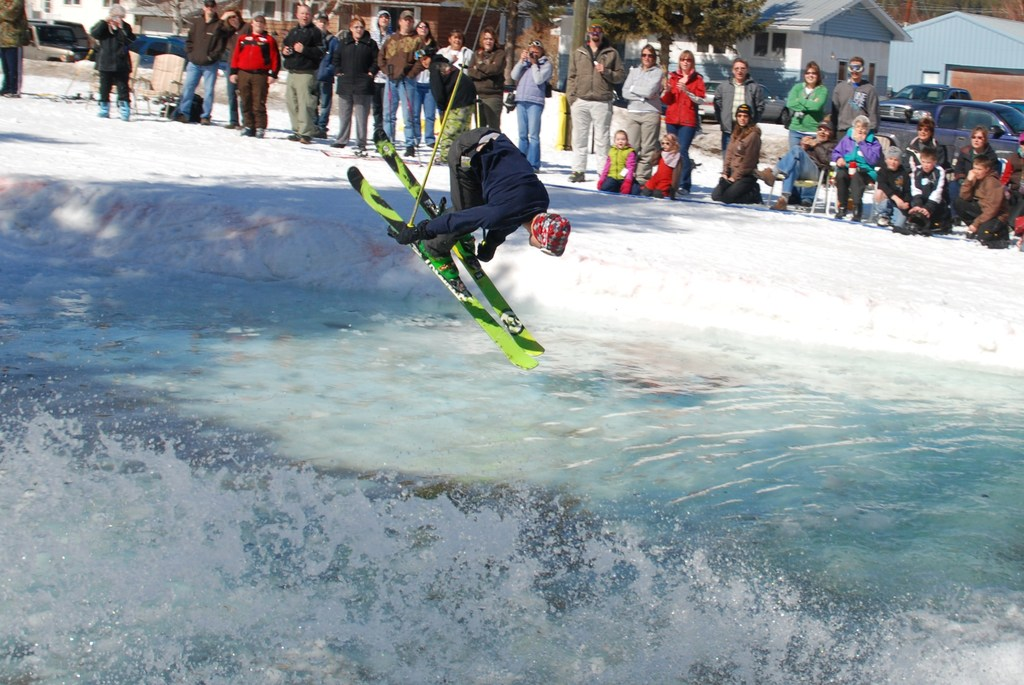Person: (0, 0, 1024, 279)
